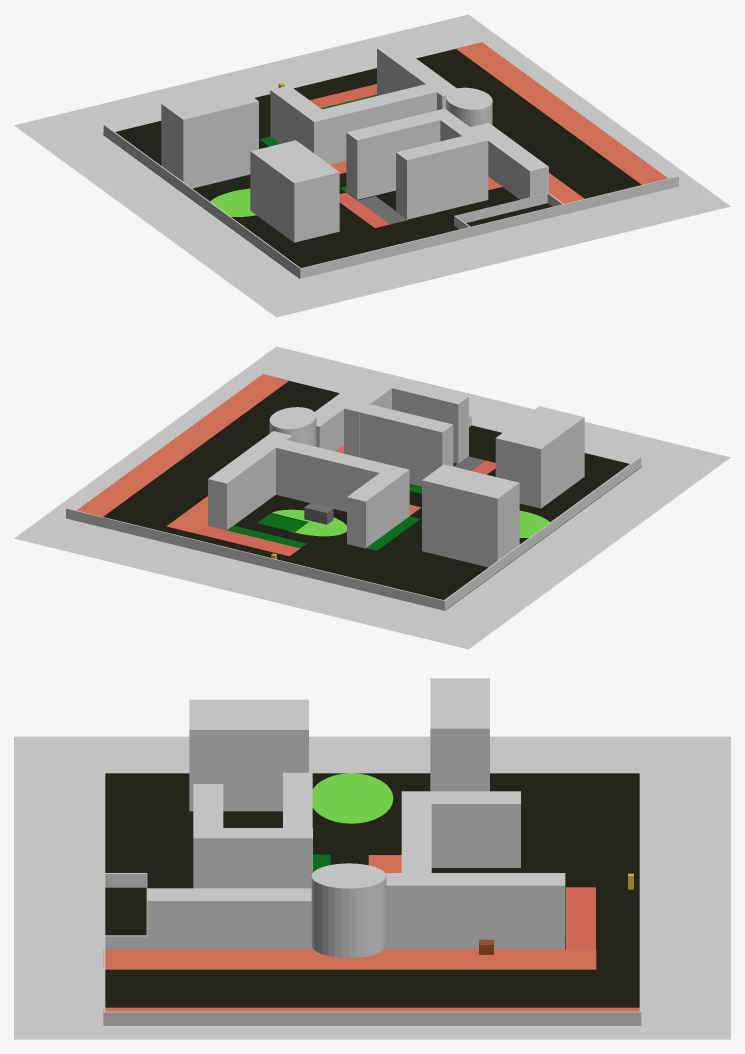
File: YuhanMap.glb
3 renders of one model, top to bottom at view 1: azimuth 30°, elevation 25°; view 2: azimuth 150°, elevation 25°; view 3: azimuth 270°, elevation 25°, orthographic. The views are drawn at different scales.
Visible parts, largest first — view 1: Main Feild, Asphalt, Asphalt2, No.8, No.7, Wall, No.6, OutsideRoad1, No.5, No.1, No.3, No.4 (+9 smaller); view 2: Main Feild, Asphalt, Asphalt2, No.8, Wall, No.7, No.5, No.1, OutsideRoad1, No.2, No.3, No.6 (+11 smaller); view 3: Main Feild, Asphalt, Asphalt2, No.2, No.7, No.4, Wall, OutsideRoad2, No.3, No.5 between No.6 conect, No.8, No.9 (+7 smaller).
Boxes of the visible parts, x1,y1,x2,y2 form: Main Feild: (14,14,730,317); Asphalt: (103,70,551,278); Asphalt2: (368,49,641,198); No.8: (161,85,258,188); No.7: (250,140,339,242); Wall: (103,32,678,278); No.6: (396,136,473,219); OutsideRoad1: (456,42,670,192); No.5: (346,112,440,199); No.1: (322,84,436,163); No.3: (270,85,332,164); No.4: (470,122,548,199); Main Feild: (14,346,730,649); Asphalt: (191,425,641,610); Asphalt2: (103,381,339,538); No.8: (422,464,519,567); Wall: (66,364,641,610); No.7: (495,406,584,508); No.5: (359,404,453,486); No.1: (276,440,389,511); OutsideRoad1: (77,374,288,516); No.2: (208,431,292,530); No.3: (347,465,409,548); No.6: (392,380,468,463); Main Feild: (14,736,730,1039); Asphalt: (105,773,639,949); Asphalt2: (105,949,639,1007); No.2: (386,873,565,949); No.7: (189,699,308,811); No.4: (147,888,311,949); Wall: (103,760,641,1025); OutsideRoad2: (103,949,596,969); No.3: (401,791,520,867); No.5 between No.6 conect: (193,828,312,888); No.8: (430,678,489,791); No.9: (311,863,386,957).
Size of the model in its own units: 1200 by 181 by 1200.
